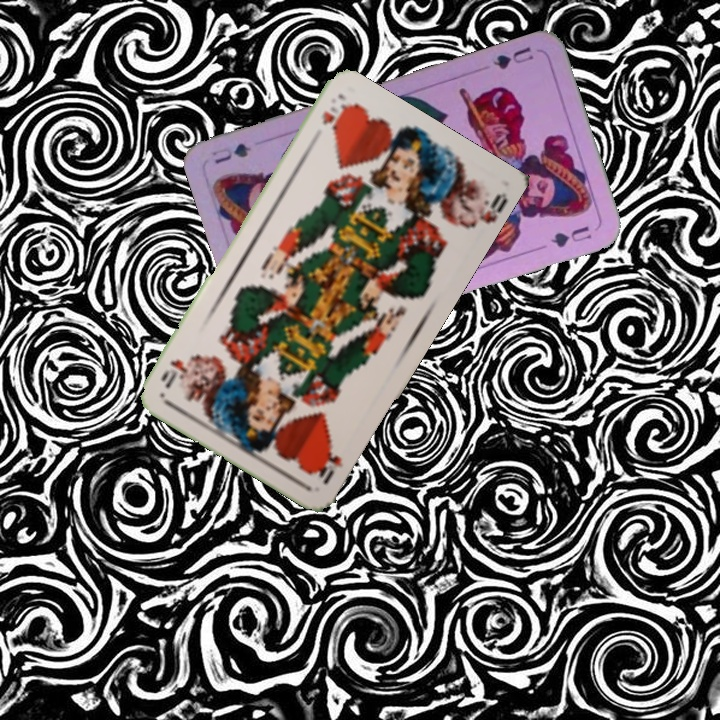GU: (489, 42, 536, 72)
HO: (310, 441, 347, 487), (318, 99, 349, 132)
